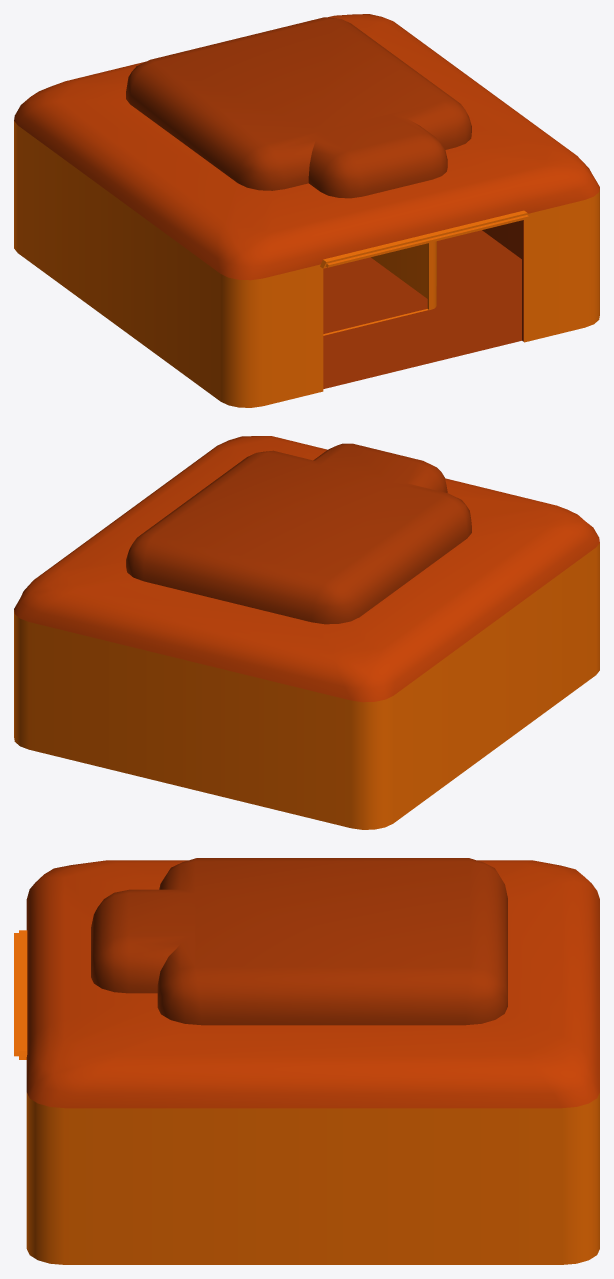
The model's file is Orange-Bolge.fbx.
3 views of the same model, one above another, from view 1: azimuth 30°, elevation 25°; view 2: azimuth 150°, elevation 25°; view 3: azimuth 270°, elevation 25° (orthographic). The views are drawn at different scales.
Parts seen in each view (by area): view 1: Entry, Exit; view 2: Entry; view 3: Entry.
Part boxes in pixels (<box>): Entry: <box>14,14,599,407</box>; Exit: <box>323,241,436,335</box>; Entry: <box>14,436,599,829</box>; Entry: <box>14,858,599,1264</box>.
Size of the model in its own units: 10.79 by 5.33 by 11.88.
